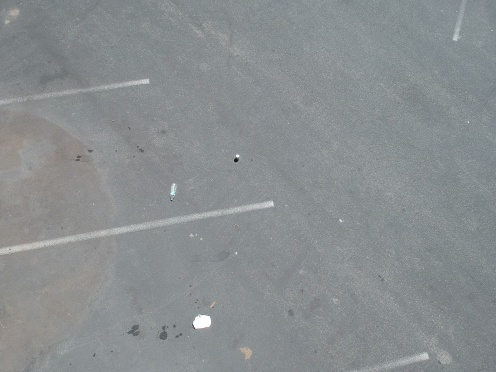bottle: (168, 181, 178, 203)
can: (232, 151, 243, 162)
plastic bag: (184, 310, 217, 331)
